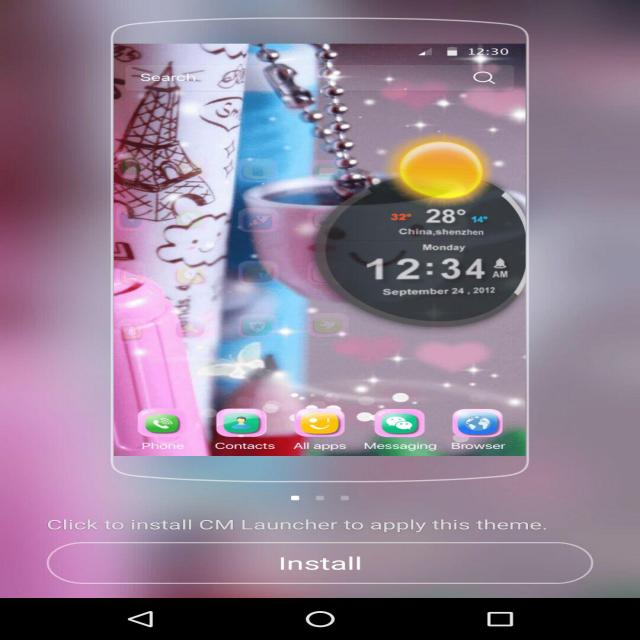button: (41, 542, 597, 586), (262, 487, 385, 512)
image: (111, 42, 527, 456)
text: (29, 514, 576, 536), (259, 551, 377, 577)
